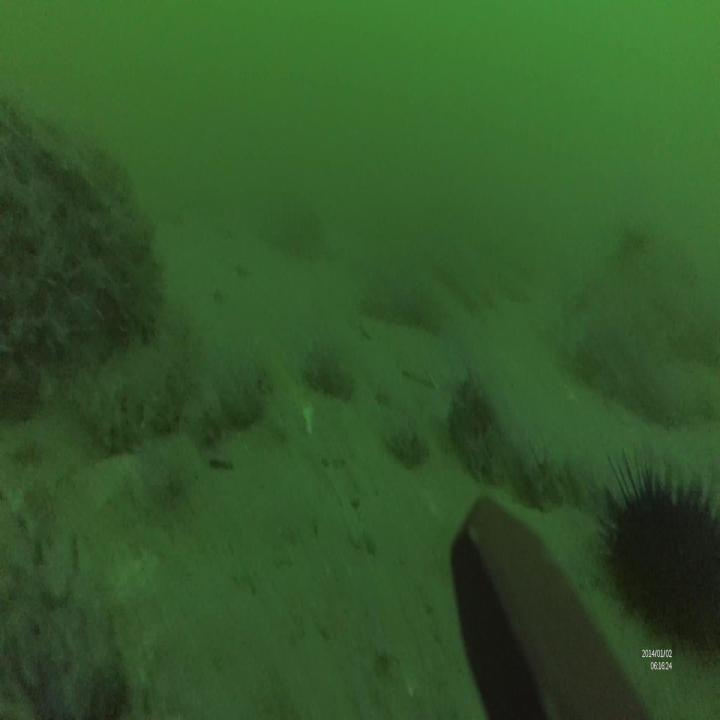echinus: (595, 444, 720, 662)
